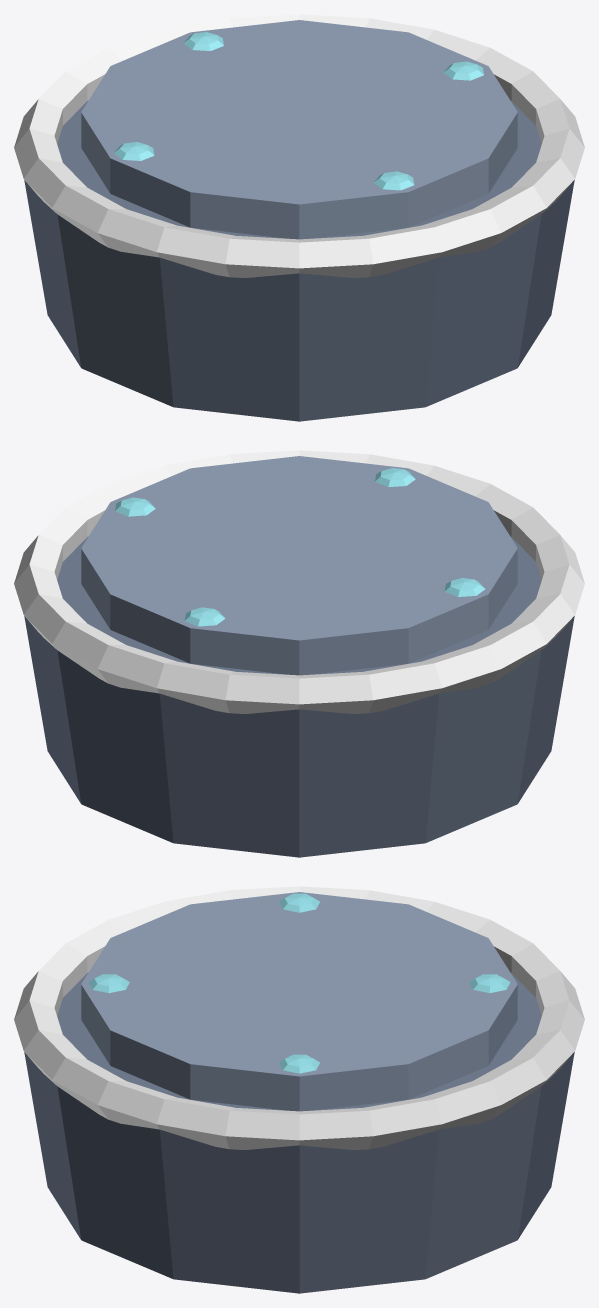
The model's file is taburete.glb.
3 renders of one model, top to bottom at view 1: azimuth 30°, elevation 25°; view 2: azimuth 150°, elevation 25°; view 3: azimuth 270°, elevation 25°, orthographic.
Visible parts, largest first — view 1: taburete; view 2: taburete; view 3: taburete.
Boxes of the visible parts, x1,y1,x2,y2 form: taburete: (14,14,584,421); taburete: (14,450,584,857); taburete: (14,886,584,1293).
Size of the model in its own units: 1.02 by 0.412 by 1.02.
